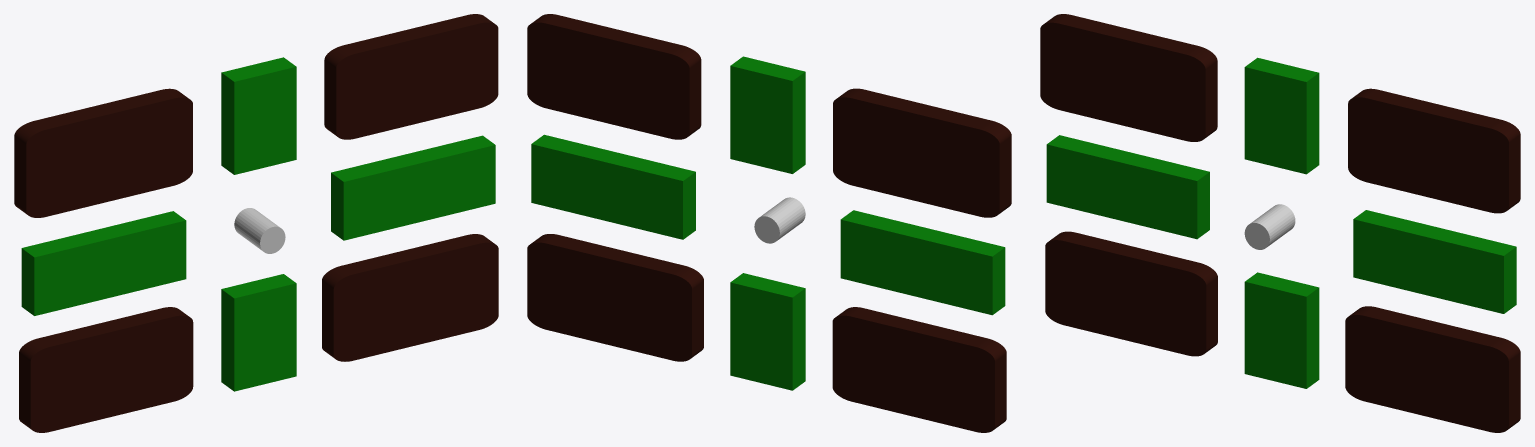
Rendered from quarteirao.obj.
3 views of the same model, side by side, from view 1: azimuth 30°, elevation 25°; view 2: azimuth 150°, elevation 25°; view 3: azimuth 330°, elevation 25° (orthographic).
Parts seen in each view (by area): view 1: Cube.007_marrom, Cube.007_Verde, Cube.007_; view 2: Cube.007_marrom, Cube.007_Verde, Cube.007_; view 3: Cube.007_marrom, Cube.007_Verde, Cube.007_.
Part boxes in pixels (left/top/right/bottom): Cube.007_marrom: left=14, top=14, right=498, bottom=432; Cube.007_Verde: left=21, top=57, right=495, bottom=391; Cube.007_: left=234, top=208, right=285, bottom=253; Cube.007_marrom: left=527, top=14, right=1011, bottom=432; Cube.007_Verde: left=531, top=56, right=1005, bottom=390; Cube.007_: left=754, top=197, right=805, bottom=243; Cube.007_marrom: left=1040, top=14, right=1520, bottom=432; Cube.007_Verde: left=1046, top=57, right=1516, bottom=388; Cube.007_: left=1244, top=204, right=1295, bottom=249.
Bounding box in the file's own units: 10.61 × 6.65 × 1.
